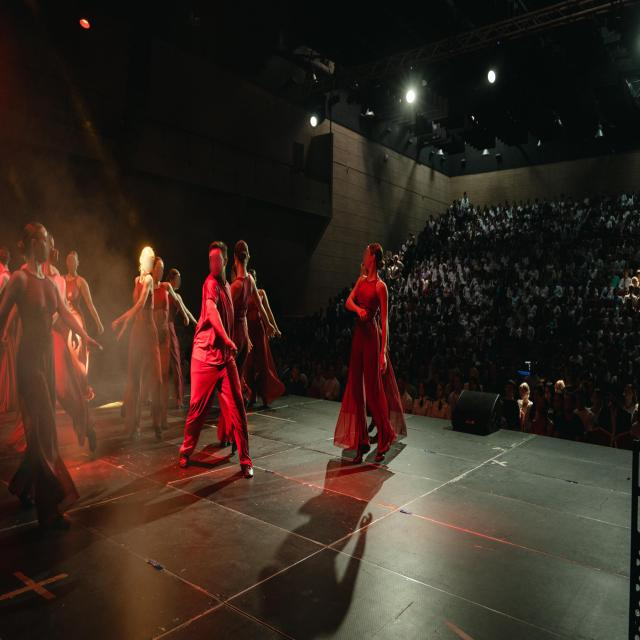Person: (9, 215, 74, 572), (328, 239, 399, 479), (194, 239, 252, 477), (118, 233, 174, 454), (225, 236, 262, 411), (146, 252, 170, 421), (60, 240, 95, 335), (168, 246, 187, 394)
